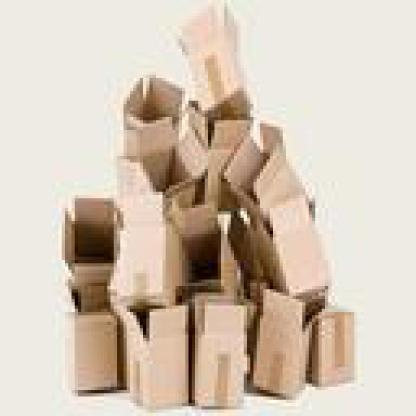CARDBOARD: (224, 195, 325, 299), (160, 113, 254, 214), (175, 280, 250, 406), (221, 117, 312, 218), (172, 0, 250, 114), (110, 302, 188, 410), (114, 182, 182, 302), (247, 286, 315, 393), (62, 192, 120, 308), (120, 72, 179, 186), (172, 208, 240, 292), (68, 302, 120, 396), (312, 306, 354, 380)
